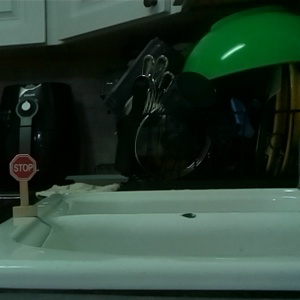stop sign: (7, 152, 40, 217)
